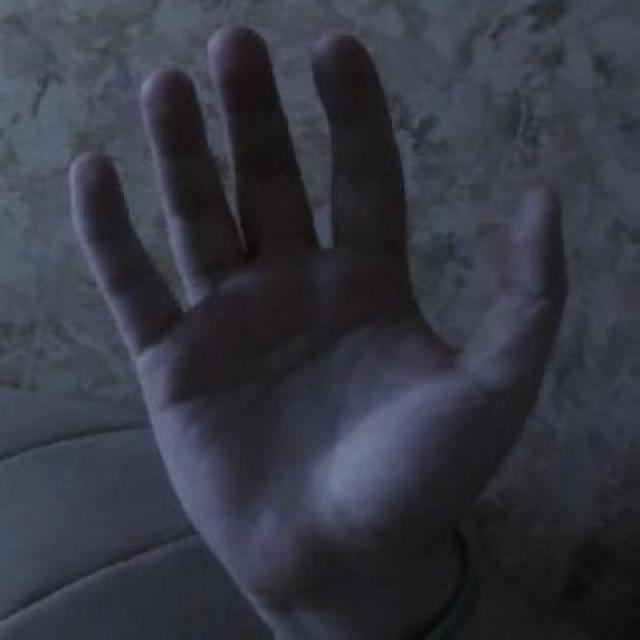Open Hand: (63, 29, 573, 640)
